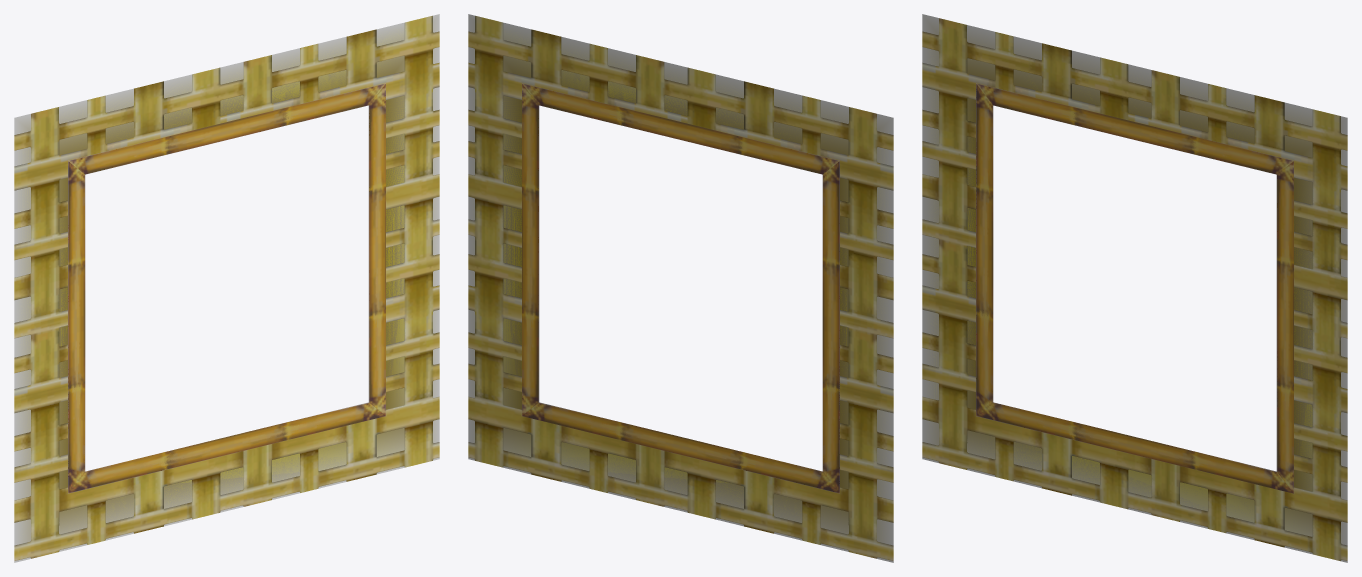
File: bamboofence_revolve_outer_bake.dae
3 renders of one model, left to right at view 1: azimuth 30°, elevation 25°; view 2: azimuth 150°, elevation 25°; view 3: azimuth 330°, elevation 25°, orthographic.
Parts seen in each view (by area): view 1: m0, m1, m0_VC; view 2: m0, m1, m0_VC; view 3: m0, m1, m0_VC.
Part boxes in pixels (bbox=[...]): m0: bbox=[14, 15, 439, 560]; m1: bbox=[68, 83, 385, 493]; m0_VC: bbox=[14, 14, 439, 562]; m0: bbox=[468, 15, 893, 560]; m1: bbox=[522, 83, 839, 493]; m0_VC: bbox=[468, 14, 893, 562]; m0: bbox=[922, 18, 1347, 561]; m1: bbox=[976, 83, 1293, 493]; m0_VC: bbox=[922, 14, 1347, 562].
Bounding box in the file's own units: 600 × 600 × 0.
Materials: 3 (3 with a texture image).
